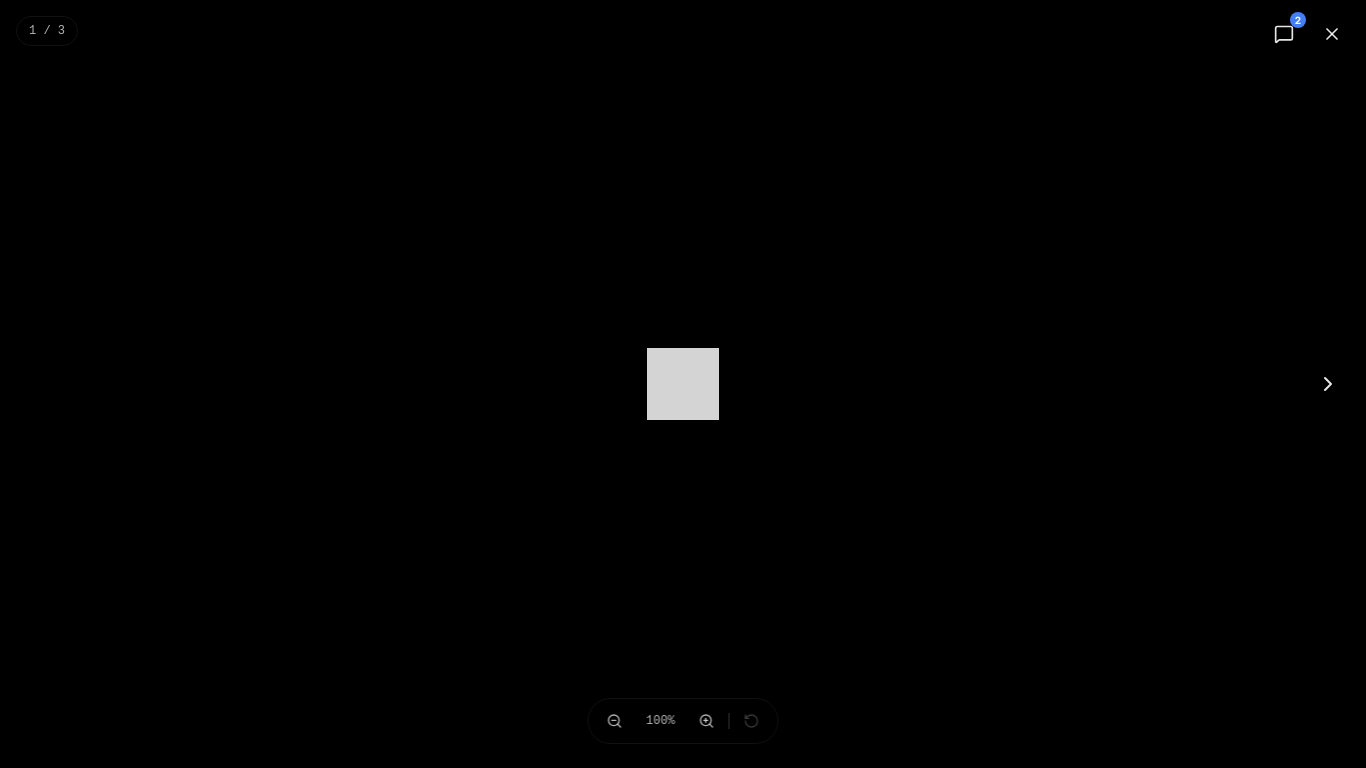
it: ImageLightbox › opens comments sidebar and shows image-specific comments
Click the button titled "Toggle comments": (1284, 34) [1266, 16, 1302, 52]
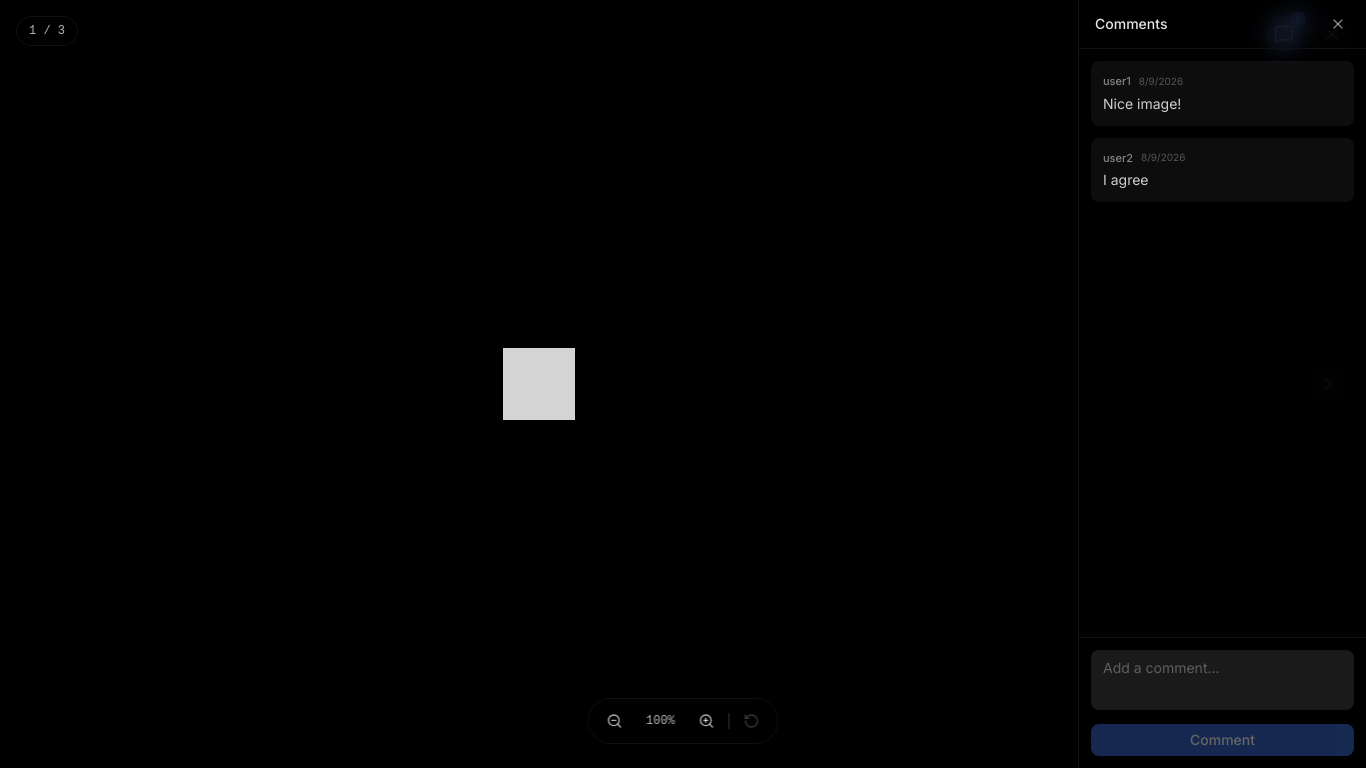
Expected: the heading "Comments" is shown, [1095, 14, 1167, 34]
Expected: the text "Nice image!" is shown, [1103, 94, 1181, 112]
Expected: the text "I agree" is shown, [1103, 171, 1148, 188]
